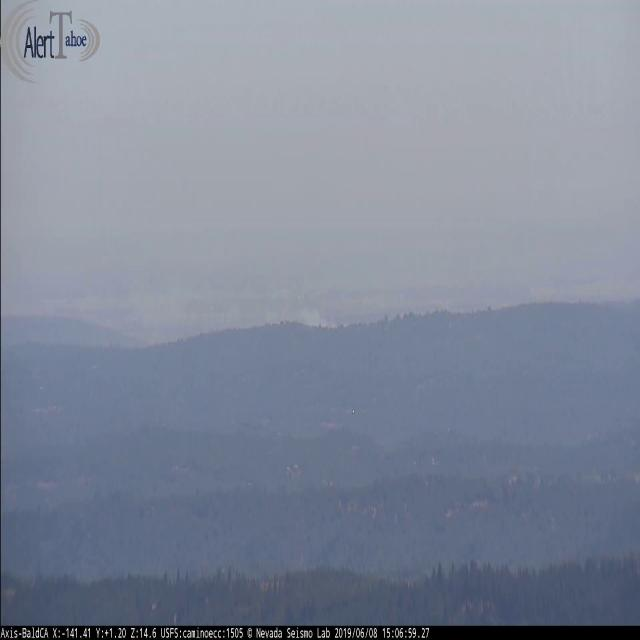smoke: (270, 284, 333, 336)
